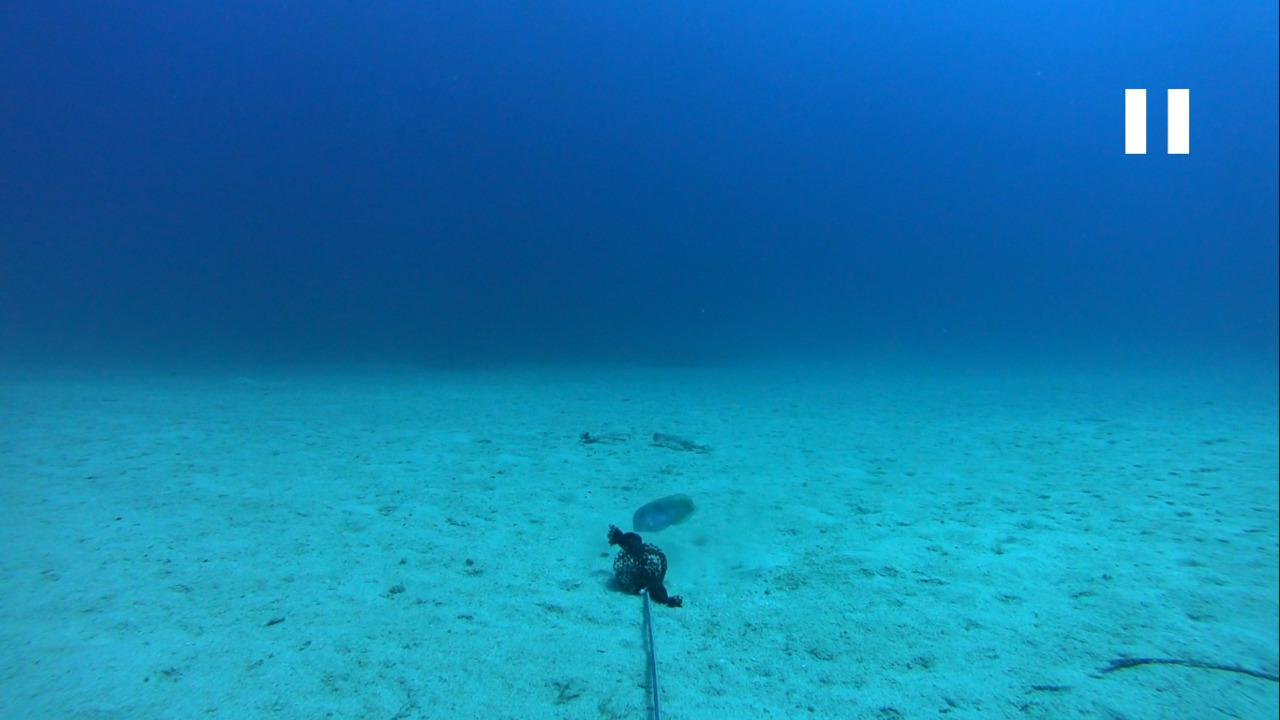dactylopterus: (643, 417, 726, 470), (575, 421, 625, 445)
raor: (628, 487, 701, 539)
